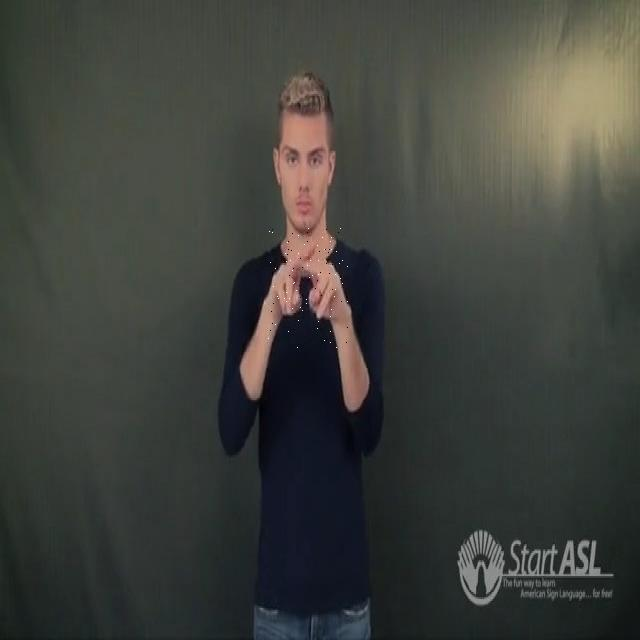salt: (268, 227, 350, 348)
